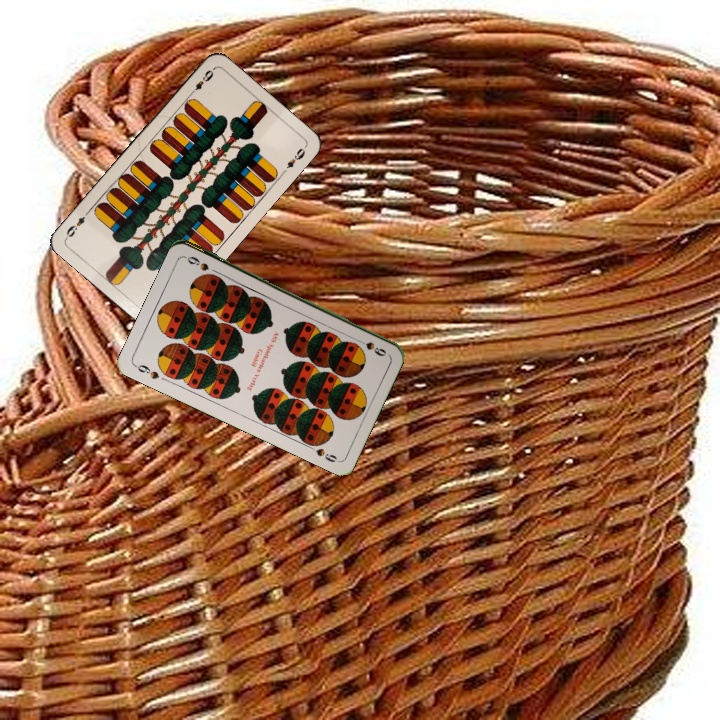E9: (186, 65, 217, 98)
S9: (351, 334, 389, 359), (130, 360, 162, 382)
